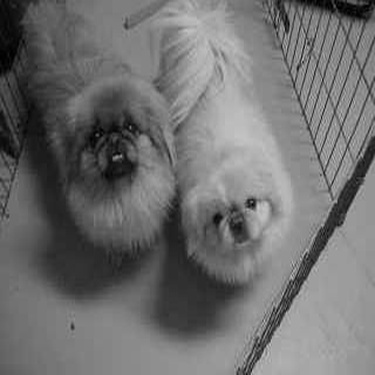dog: (124, 1, 301, 296), (7, 2, 191, 270)
